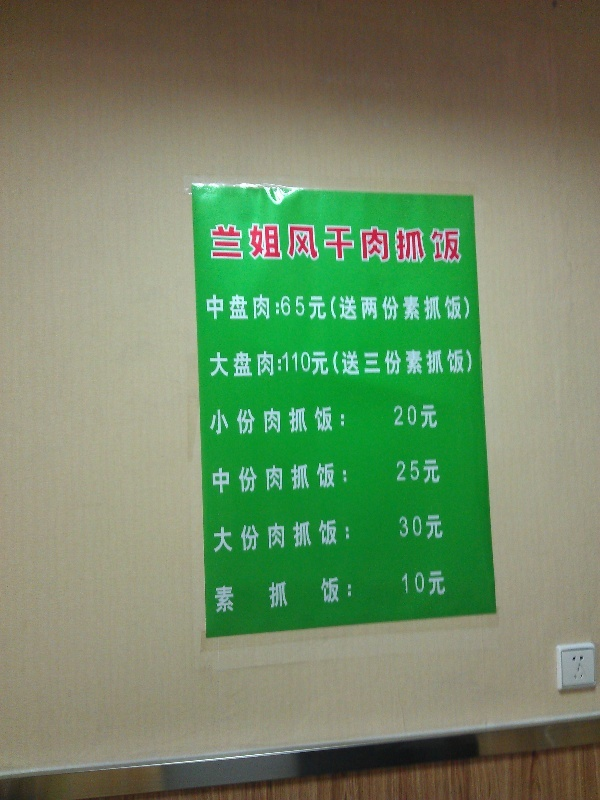text: (209, 222, 224, 265), (225, 222, 240, 265), (241, 222, 256, 265), (257, 222, 272, 265), (273, 222, 288, 265), (289, 222, 304, 265), (305, 222, 320, 265), (321, 222, 336, 265), (337, 222, 352, 265), (353, 222, 368, 265), (369, 222, 384, 265), (385, 222, 400, 265), (401, 222, 416, 265), (417, 222, 432, 265), (433, 222, 448, 265), (337, 518, 353, 555), (225, 575, 240, 614), (241, 575, 256, 614), (257, 575, 272, 614), (273, 575, 288, 614), (289, 575, 304, 614), (305, 575, 320, 614), (321, 575, 336, 614), (337, 575, 352, 614), (449, 222, 462, 265), (225, 518, 240, 555), (241, 518, 256, 555), (257, 518, 272, 555), (273, 518, 288, 555), (289, 518, 304, 555), (305, 518, 320, 555), (321, 518, 336, 555), (225, 462, 240, 495), (241, 462, 256, 495), (257, 462, 272, 495), (273, 462, 288, 495), (289, 462, 304, 495), (305, 462, 320, 495), (321, 462, 336, 495), (209, 405, 224, 437), (225, 405, 240, 437), (241, 405, 256, 437), (257, 405, 272, 437), (273, 405, 288, 437), (289, 405, 304, 437), (305, 405, 320, 437), (321, 405, 336, 437), (209, 348, 224, 379), (225, 348, 240, 379), (241, 348, 256, 379), (257, 348, 272, 379), (273, 348, 288, 379), (289, 348, 304, 379), (305, 348, 320, 379), (321, 348, 336, 379), (337, 348, 352, 379), (353, 348, 368, 379), (369, 348, 384, 379), (385, 348, 400, 379), (401, 348, 416, 379), (417, 348, 432, 379), (433, 348, 448, 379), (449, 348, 464, 379), (401, 569, 416, 600), (417, 569, 432, 600), (433, 569, 448, 600), (212, 518, 224, 555), (337, 462, 350, 495), (213, 575, 224, 614), (209, 293, 224, 321), (225, 293, 240, 321), (241, 293, 256, 321), (257, 293, 272, 321), (273, 293, 288, 321), (289, 293, 304, 321), (305, 293, 320, 321), (321, 293, 336, 321), (337, 293, 352, 321), (353, 293, 368, 321), (369, 293, 384, 321), (385, 293, 400, 321), (401, 293, 416, 321), (417, 293, 432, 321), (433, 293, 448, 321), (449, 293, 464, 321), (401, 403, 416, 431), (417, 403, 432, 431), (401, 514, 416, 541), (417, 514, 432, 541), (212, 462, 224, 495), (401, 459, 416, 485), (417, 459, 432, 485), (433, 514, 446, 541), (337, 405, 347, 437), (465, 348, 475, 379), (392, 403, 400, 431), (433, 459, 441, 485), (465, 293, 472, 321), (433, 403, 438, 431), (396, 459, 400, 485), (353, 575, 355, 614), (206, 293, 208, 321), (398, 514, 400, 541)
